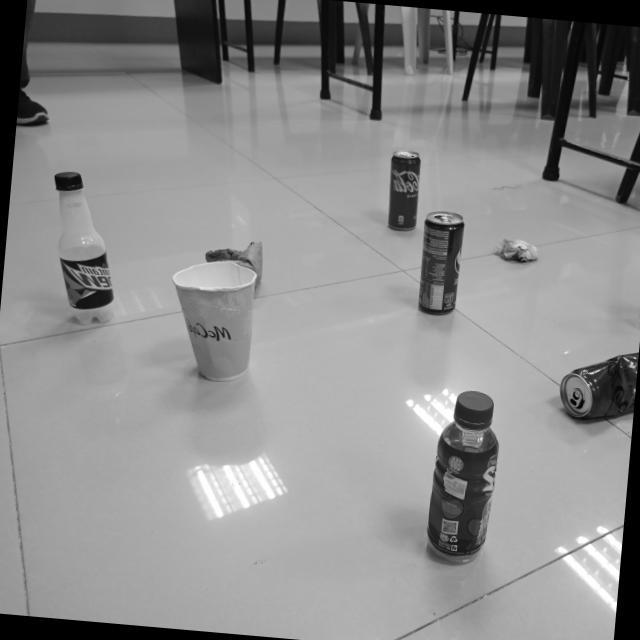recyclable waste: (418, 380, 509, 571), (36, 163, 130, 331), (160, 248, 264, 388), (551, 339, 639, 428), (410, 204, 470, 322), (380, 142, 428, 238), (198, 228, 268, 290), (491, 231, 545, 268)
